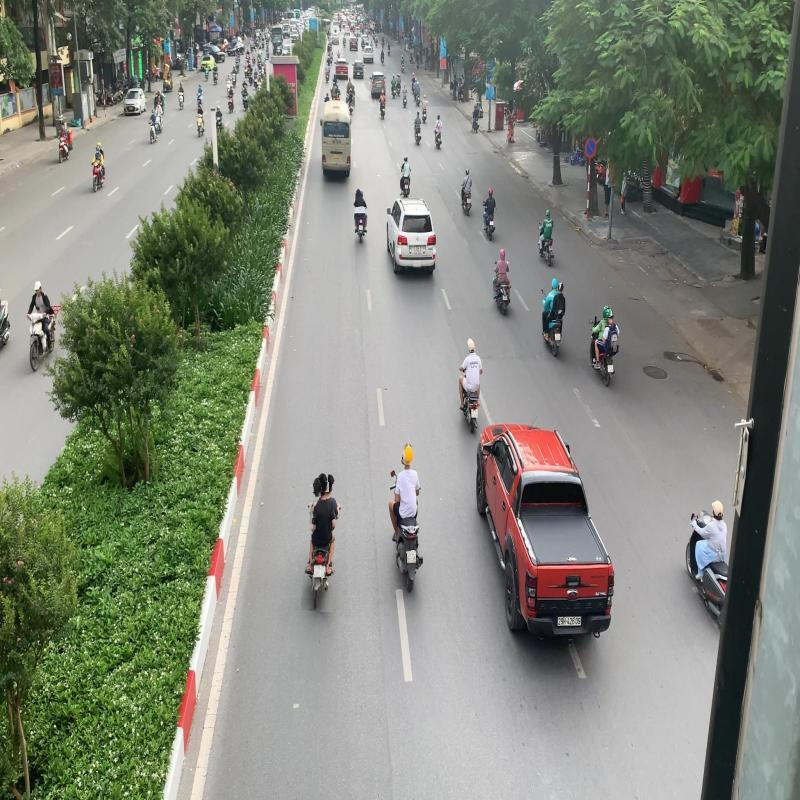helmet: (402, 443, 414, 465)
licenseplate: (315, 565, 326, 578), (407, 550, 416, 564)
motorcyclist: (303, 470, 342, 612), (388, 441, 424, 594)
nohelmet: (318, 473, 330, 492), (312, 477, 322, 497)
